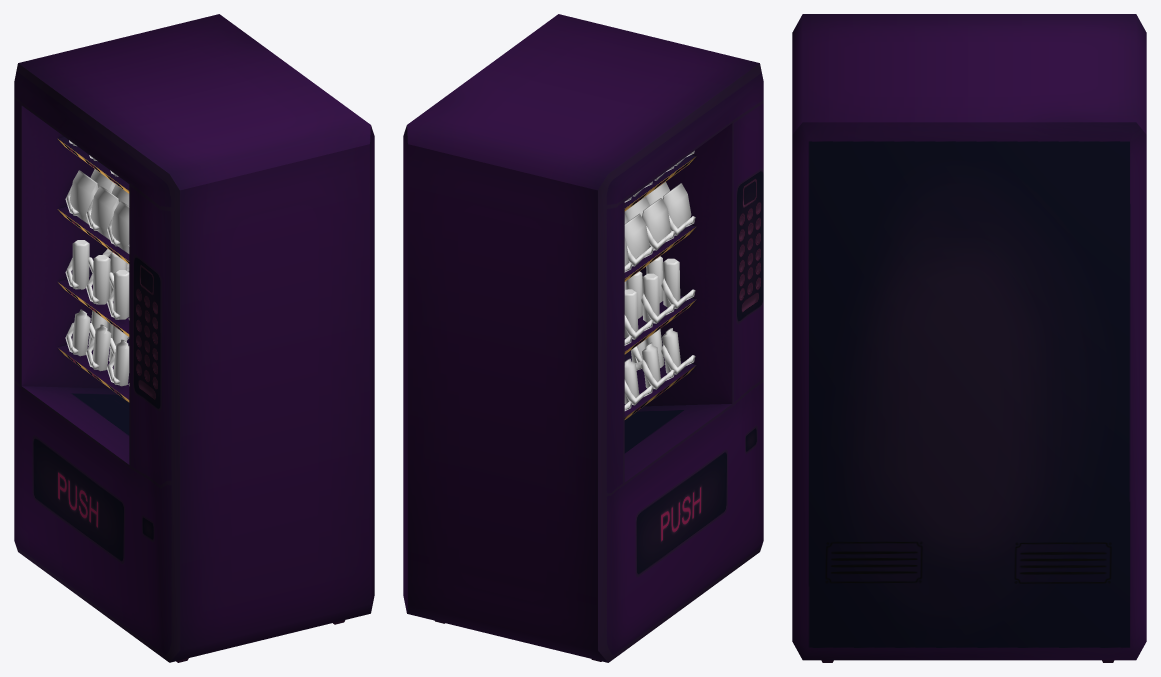
Rendered from vendingmachine.fbx.
3 renders of one model, left to right at view 1: azimuth 30°, elevation 25°; view 2: azimuth 150°, elevation 25°; view 3: azimuth 270°, elevation 25°, orthographic. The views are drawn at different scales.
Visible parts, largest first — view 1: vendingmachine, yummy, spinnies; view 2: vendingmachine, yummy, spinnies; view 3: vendingmachine.
Part boxes in pixels (bbox=[...]): vendingmachine: bbox=[14, 14, 374, 662]; yummy: bbox=[70, 169, 129, 386]; spinnies: bbox=[65, 140, 129, 385]; vendingmachine: bbox=[403, 14, 763, 662]; yummy: bbox=[624, 182, 691, 404]; spinnies: bbox=[624, 150, 695, 410]; vendingmachine: bbox=[792, 14, 1146, 662].
Bounding box in the file's own units: 86.29 × 193 × 112.
